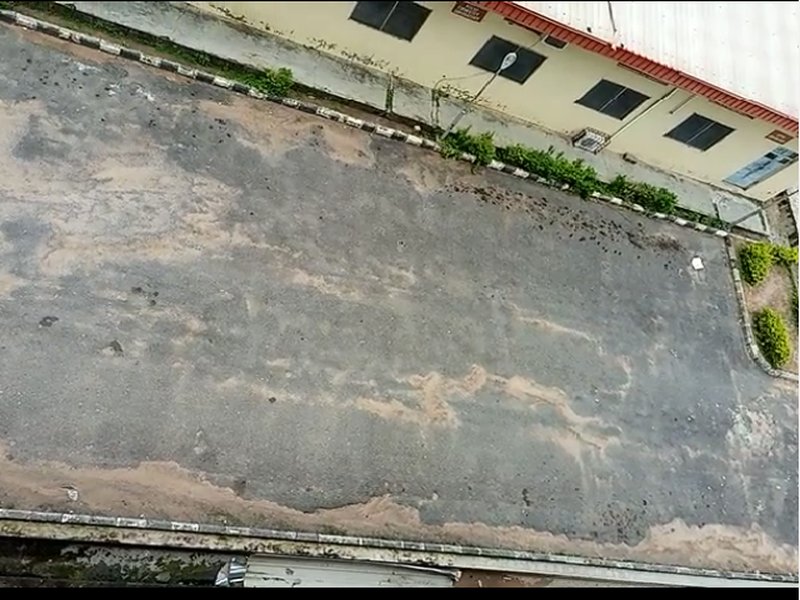five: (655, 187, 754, 365)
four: (508, 141, 602, 321)
one: (1, 1, 99, 203)
three: (336, 124, 455, 269)
two: (163, 63, 297, 223)
